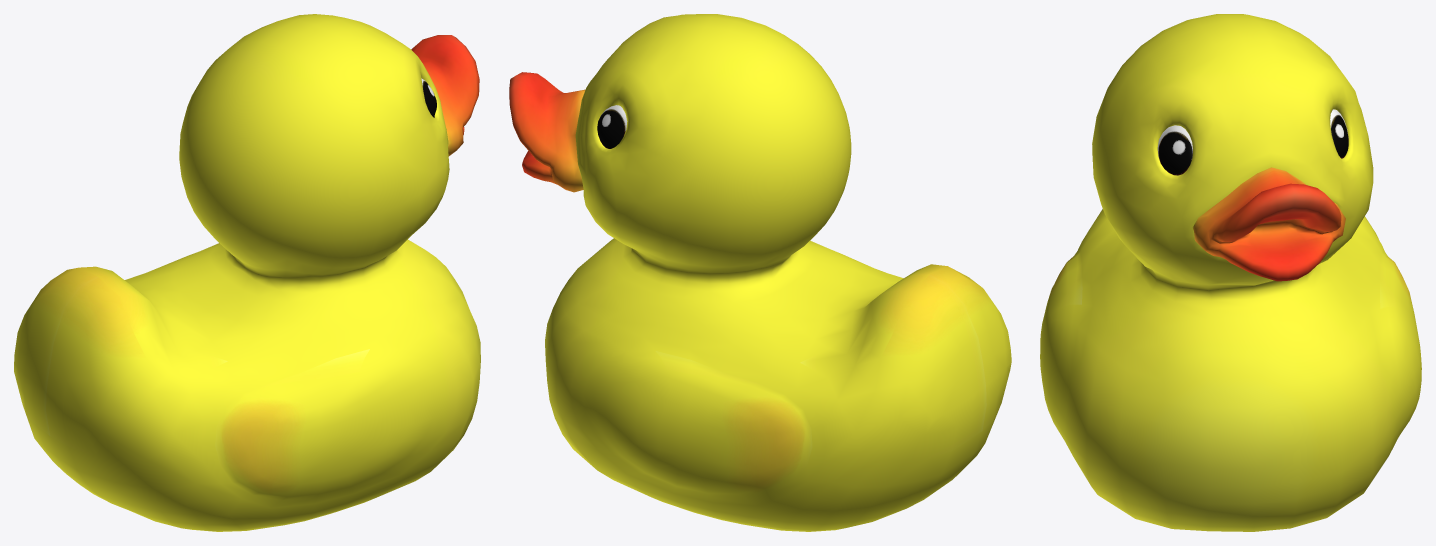
The model's file is duck.dae.
3 renders of one model, left to right at view 1: azimuth 30°, elevation 25°; view 2: azimuth 150°, elevation 25°; view 3: azimuth 270°, elevation 25°, orthographic. The views are drawn at different scales.
Visible parts, largest first — view 1: LOD3sp; view 2: LOD3sp; view 3: LOD3sp.
Boxes of the visible parts, box(x1,y1,x2,y2) form: LOD3sp: box(14, 14, 480, 531); LOD3sp: box(509, 14, 1011, 531); LOD3sp: box(1040, 14, 1421, 531).
Size of the model in its own units: 2232 by 2078 by 1554.
Materials: 1 (1 with a texture image).
